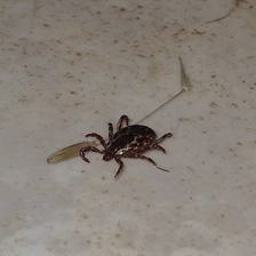Dermacentor variabilis: (80, 116, 172, 179)
